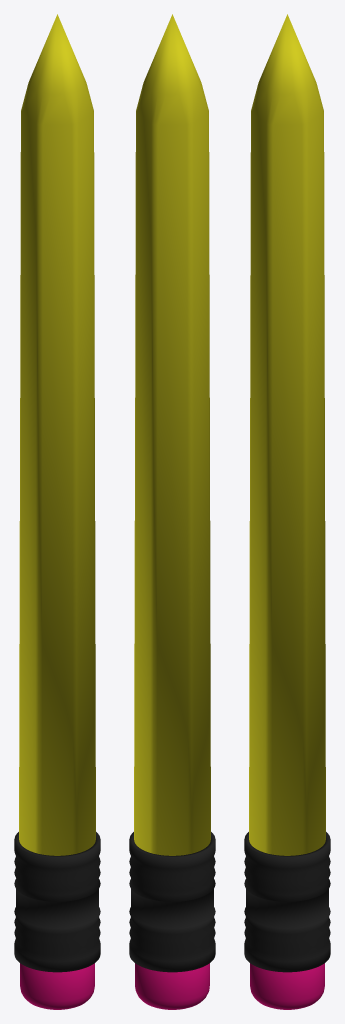
Rendered from Pencil_Lowpoly.obj.
3 renders of one model, left to right at view 1: azimuth 90°, elevation 25°; view 2: azimuth 150°, elevation 25°; view 3: azimuth 270°, elevation 25°, orthographic.
Parts seen in each view (by area): view 1: Pencil, Fastener, Eraser; view 2: Pencil, Fastener, Eraser; view 3: Pencil, Fastener, Eraser.
Boxes of the visible parts, box(x1,y1,x2,y2) form: Pencil: box(19, 14, 95, 855); Fastener: box(14, 832, 100, 972); Eraser: box(20, 963, 94, 1009); Pencil: box(134, 14, 210, 855); Fastener: box(129, 832, 215, 972); Eraser: box(135, 963, 209, 1009); Pencil: box(249, 14, 325, 855); Fastener: box(244, 832, 330, 972); Eraser: box(250, 963, 324, 1009).
Size of the model in its own units: 2.16 by 27.2 by 2.16.
